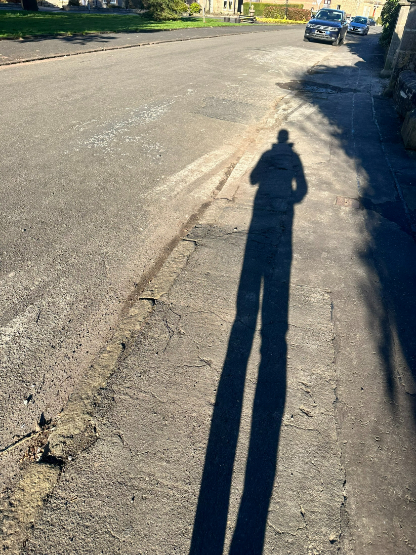car: (294, 6, 349, 44), (350, 12, 377, 40)
